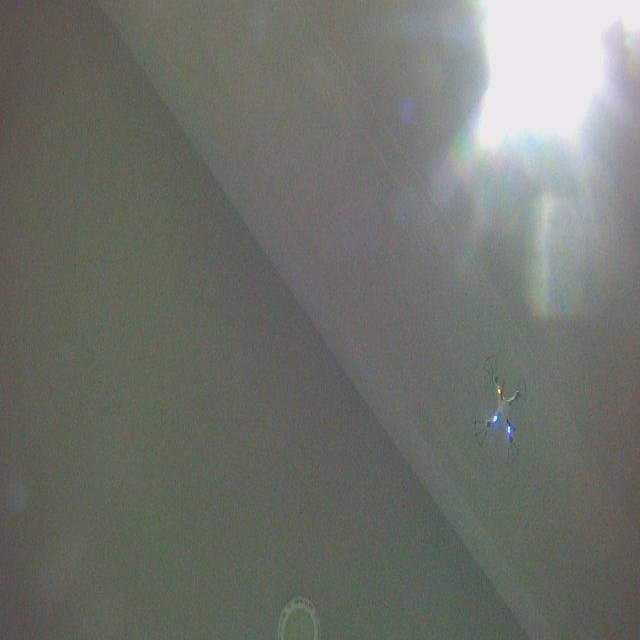drone: (471, 352, 528, 468)
